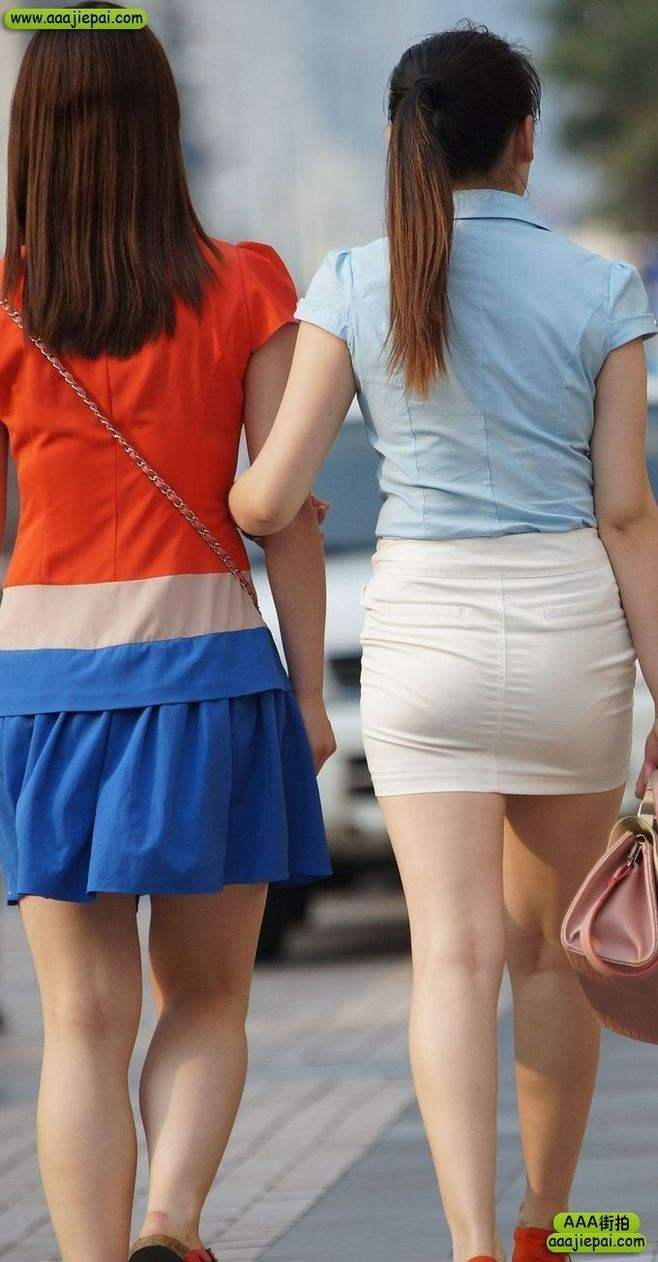person: (304, 59, 658, 1262)
